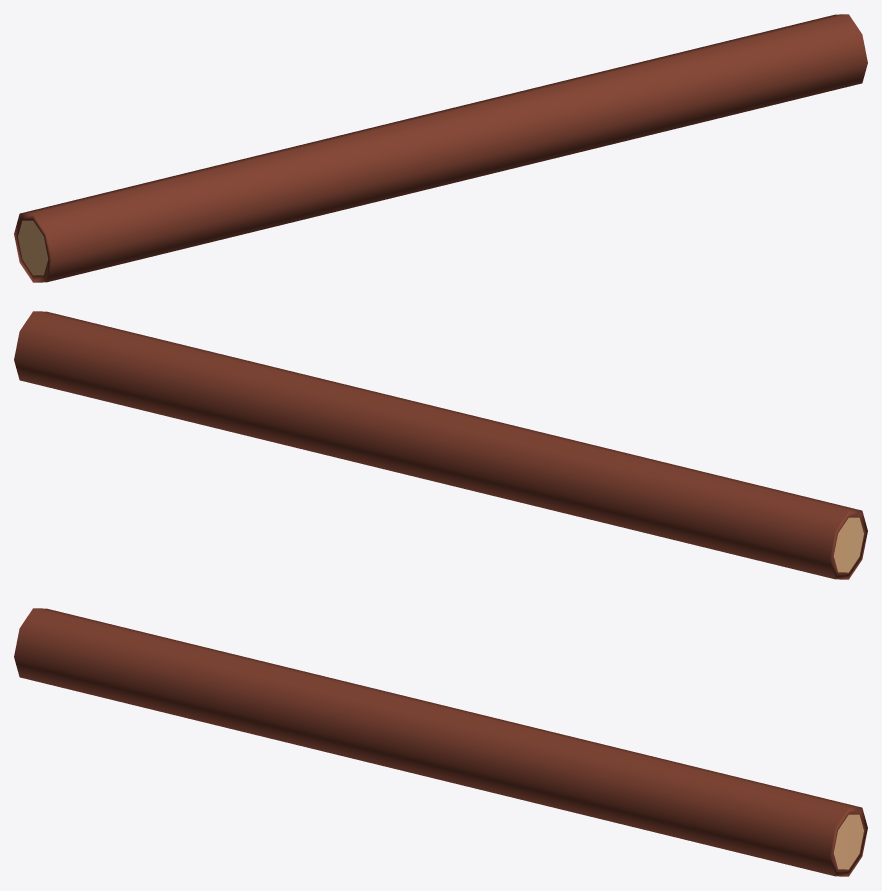
The model's file is Stick01.fbx.
3 views of the same model, one above another, from view 1: azimuth 30°, elevation 25°; view 2: azimuth 150°, elevation 25°; view 3: azimuth 330°, elevation 25° (orthographic).
Parts seen in each view (by area): view 1: Stick01; view 2: Stick01; view 3: Stick01.
Part boxes in pixels (x1,y1,x2,y2): Stick01: (14, 14, 867, 282); Stick01: (14, 311, 867, 579); Stick01: (14, 608, 867, 876).
Size of the model in its own units: 0.9227 by 0.0749 by 0.0749.
1 material, 1 textured.
